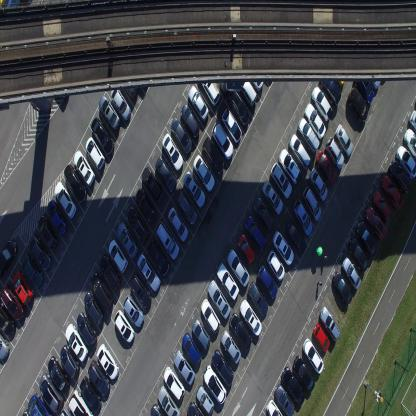car: (155, 220, 180, 260), (90, 117, 115, 157), (202, 364, 227, 404), (280, 366, 305, 406), (0, 284, 26, 322), (63, 164, 87, 205), (226, 248, 250, 288), (39, 373, 63, 413), (208, 279, 231, 320), (147, 237, 170, 278), (318, 66, 341, 107), (137, 253, 161, 292), (211, 120, 234, 160), (201, 135, 224, 175), (65, 322, 88, 362), (216, 261, 240, 299), (192, 154, 216, 192), (116, 222, 139, 261), (96, 343, 120, 380), (161, 132, 183, 172), (90, 270, 112, 310), (229, 312, 252, 350), (169, 117, 192, 155), (54, 181, 77, 219), (288, 132, 311, 170), (381, 173, 404, 211), (388, 159, 412, 195), (240, 297, 262, 336), (126, 207, 148, 246), (141, 166, 163, 205), (182, 171, 205, 208), (29, 234, 52, 271), (20, 252, 43, 289), (98, 254, 121, 291), (87, 359, 110, 396), (244, 214, 267, 251), (271, 161, 292, 201), (154, 156, 176, 194), (187, 84, 209, 122), (73, 149, 95, 187), (79, 375, 101, 413), (278, 148, 300, 186), (304, 102, 326, 140), (310, 85, 332, 123), (364, 204, 386, 242), (293, 354, 315, 392), (297, 117, 320, 153), (134, 188, 156, 225), (109, 84, 131, 121), (173, 349, 195, 386), (212, 348, 234, 385), (261, 179, 283, 216), (302, 337, 324, 374), (221, 106, 242, 144), (220, 328, 241, 366), (316, 148, 337, 186), (98, 94, 120, 130), (163, 366, 185, 402), (272, 230, 294, 266), (252, 196, 274, 232), (354, 65, 374, 104), (286, 217, 306, 256), (293, 196, 312, 237), (122, 293, 144, 328), (46, 199, 66, 237), (348, 86, 368, 124), (302, 185, 322, 223), (248, 280, 269, 316), (167, 207, 188, 243), (228, 89, 249, 125), (37, 214, 58, 250), (76, 310, 97, 346), (130, 274, 152, 308), (12, 270, 34, 304), (179, 103, 199, 140), (396, 144, 416, 181), (356, 219, 376, 256), (176, 191, 197, 226), (257, 264, 278, 299), (107, 238, 128, 273), (117, 63, 138, 98), (200, 297, 220, 333), (0, 236, 18, 276), (48, 356, 68, 392), (157, 385, 181, 415), (362, 53, 382, 89), (325, 134, 345, 170), (309, 166, 328, 203), (85, 136, 105, 171), (334, 121, 354, 156), (332, 270, 352, 305), (320, 306, 340, 341), (244, 55, 263, 91), (342, 254, 361, 290), (200, 70, 220, 104), (114, 309, 134, 343), (182, 332, 202, 366), (68, 389, 94, 415), (274, 383, 295, 415), (238, 71, 257, 106), (372, 190, 392, 223), (84, 290, 103, 324), (349, 237, 368, 271), (237, 233, 257, 265), (60, 344, 78, 378), (267, 248, 285, 282), (195, 384, 215, 414), (192, 318, 210, 351), (27, 394, 52, 416), (312, 323, 330, 352), (0, 305, 16, 336), (403, 126, 416, 162), (0, 334, 11, 362), (267, 398, 284, 416), (186, 401, 205, 415), (408, 106, 416, 134), (150, 403, 165, 415), (58, 405, 73, 415)
